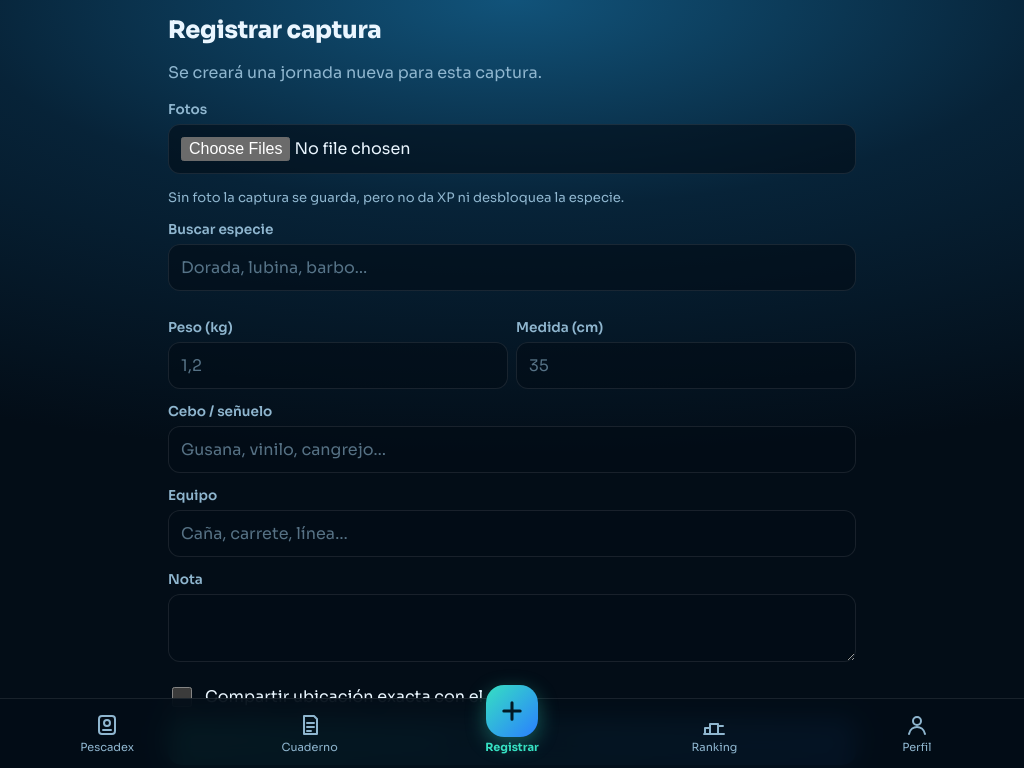
Test: el blenio está en la Pescadex
Type "bleni" into the field labelled "Buscar especie". click: (512, 267)
box: x1=168 y1=244 x2=856 y2=291
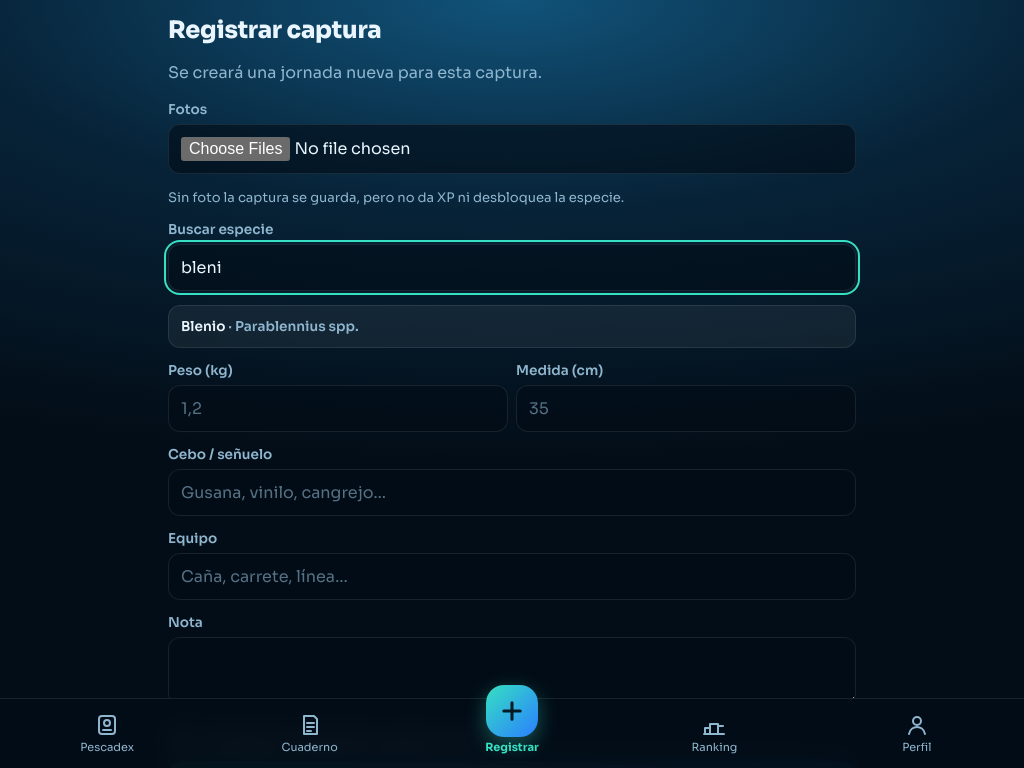
Now the button "Blenio · Parablennius spp." is shown, box x1=168 y1=305 x2=856 y2=348
